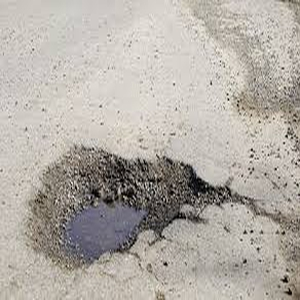pothole: (36, 143, 217, 267)
